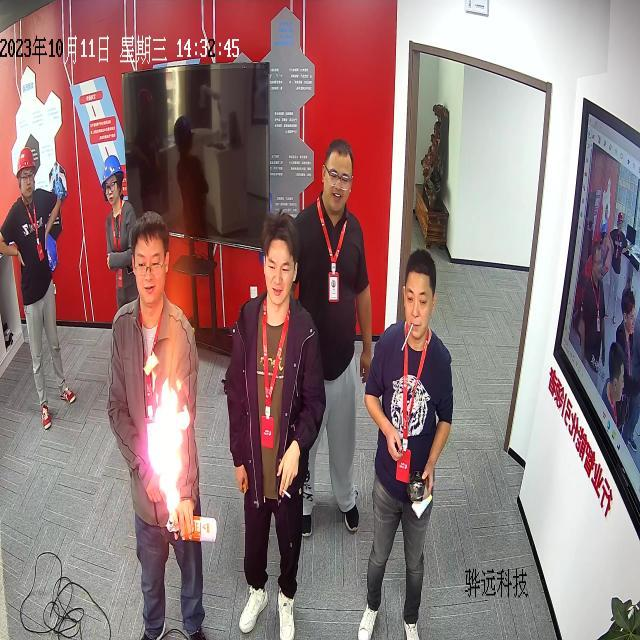Fire: (147, 378, 190, 518)
